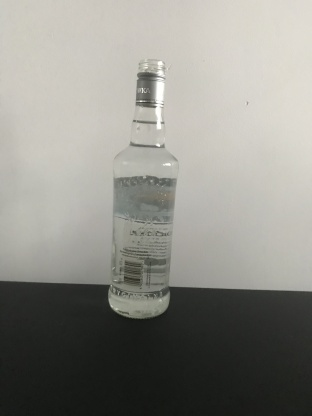nakretka: (133, 57, 167, 110)
